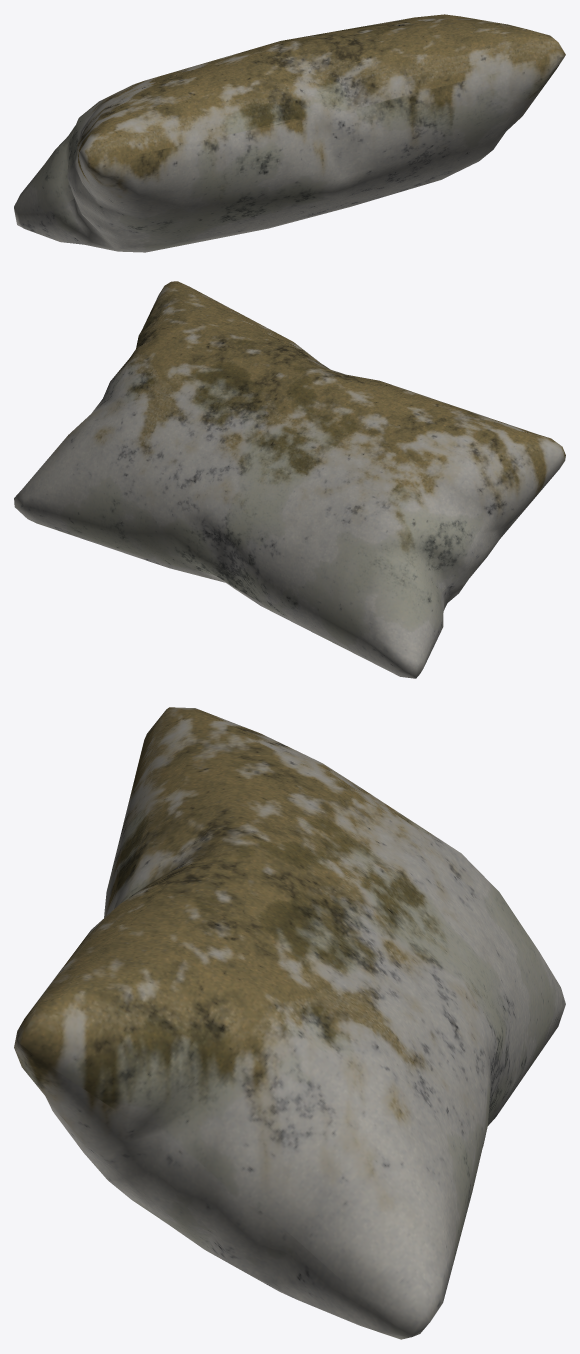
The model's file is SM_Pillow01.fbx.
3 views of the same model, one above another, from view 1: azimuth 30°, elevation 25°; view 2: azimuth 150°, elevation 25°; view 3: azimuth 270°, elevation 25° (orthographic). The views are drawn at different scales.
Visible parts, largest first — view 1: SM_Pillow01_LOD0; view 2: SM_Pillow01_LOD0; view 3: SM_Pillow01_LOD0.
Part boxes in pixels (x1=…): SM_Pillow01_LOD0: x1=14, y1=14, x2=565, y2=252; SM_Pillow01_LOD0: x1=14, y1=281, x2=565, y2=678; SM_Pillow01_LOD0: x1=14, y1=707, x2=565, y2=1339.
Size of the model in its own units: 79.59 by 45.66 by 33.65.
